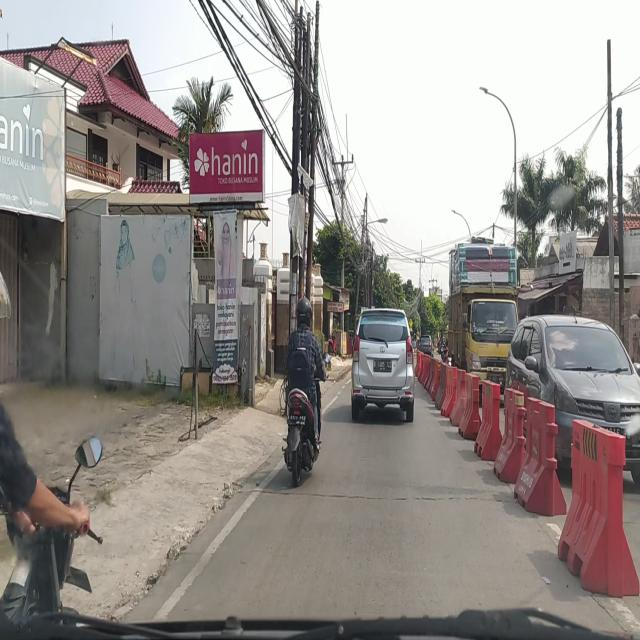Sewer Cover: (260, 486, 510, 505)
